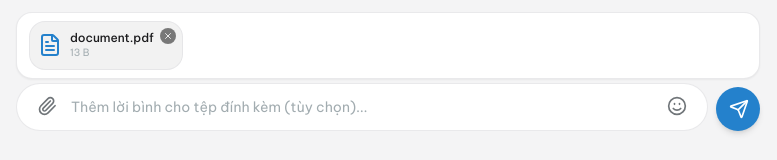
MessageComposer Component Tests › allows removing an attachment from preview strip
The width and height of the screenshot is (777, 160).
Earlier steps of the test are not shown.
Expected: the text "document.pdf" is shown, [70,30,154,46]
Click the button with test id "remove-attachment-btn" at (168, 36), box [160,28,176,44]
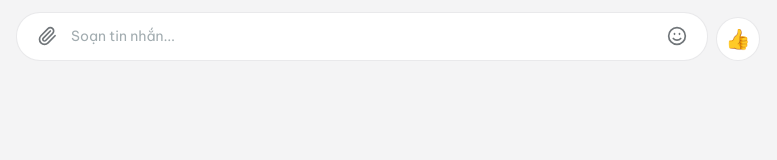
Expected: the text "document.pdf" is gone
Expected: the element with test id "attachment-preview-strip" is gone
